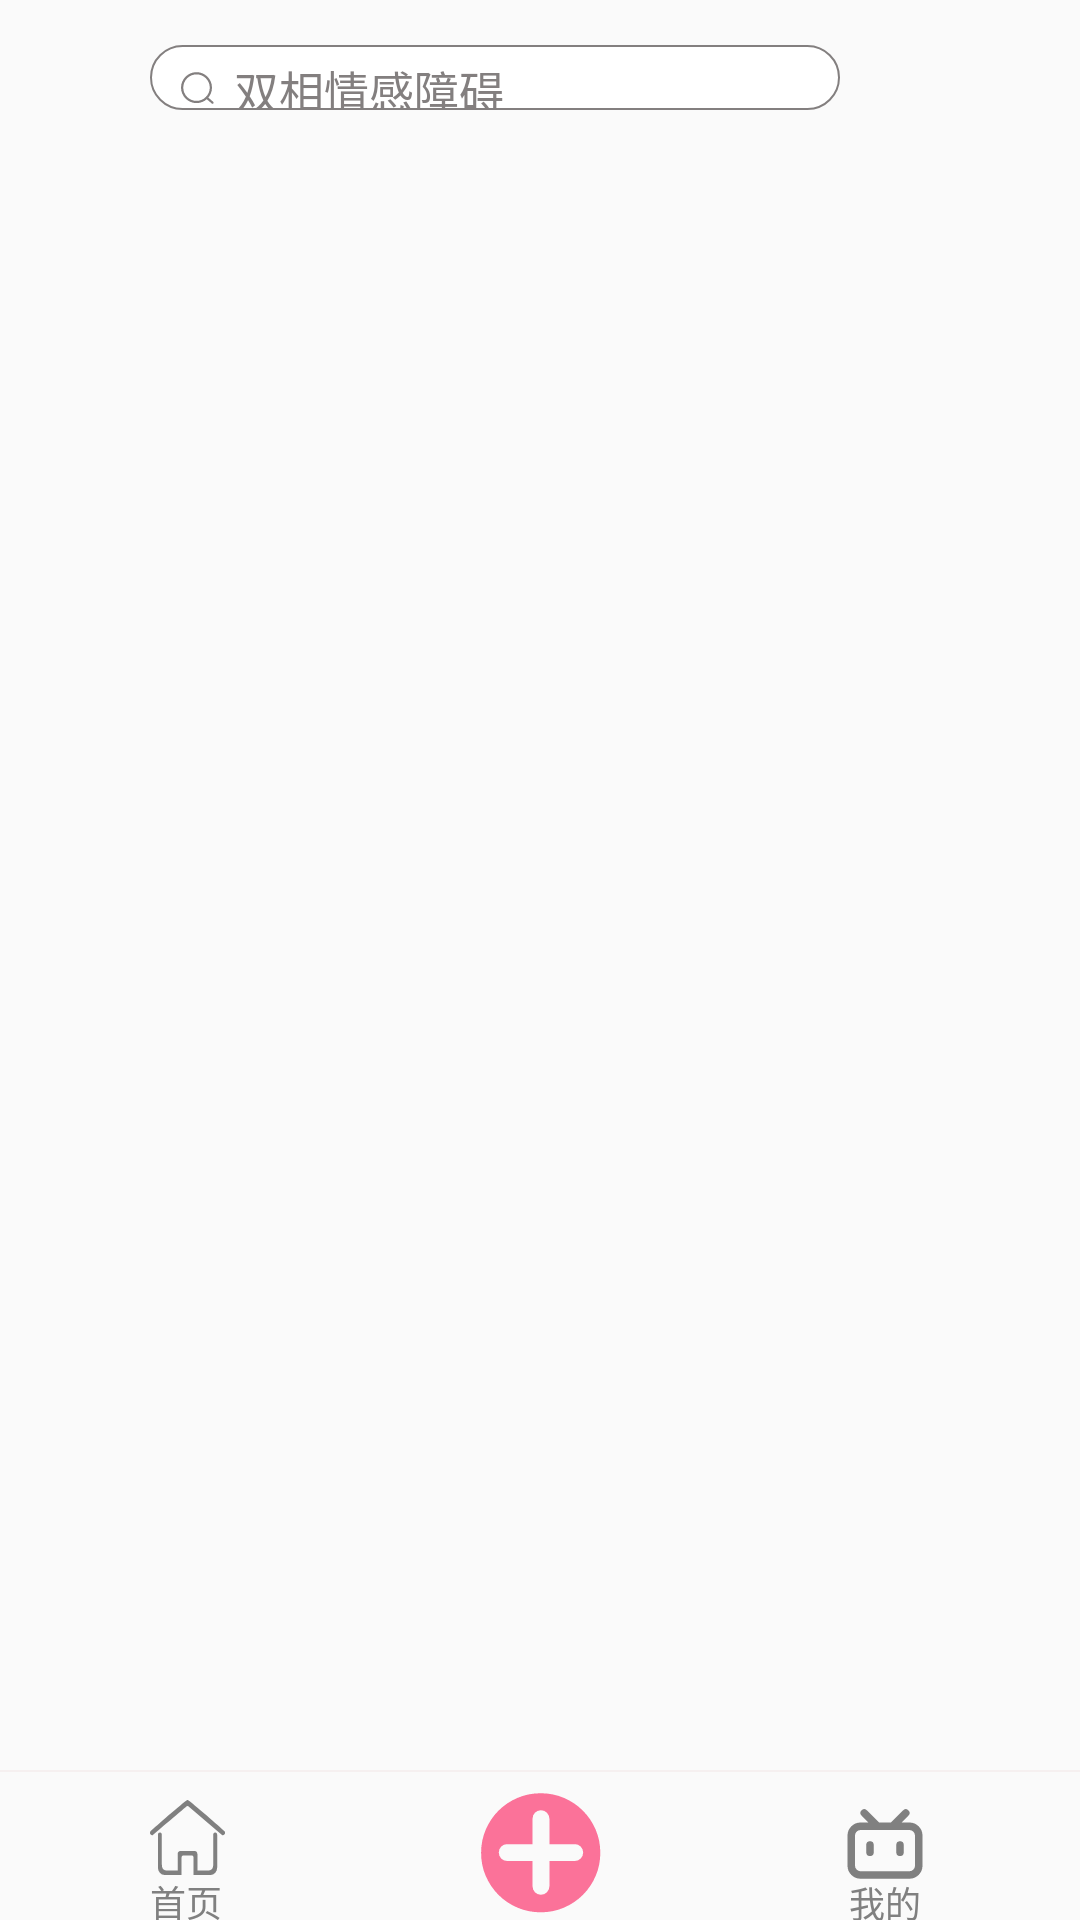

Named icons in this screenshot (1080px x 1920px) and their bounding boxes, (x1=x1, y1=y1, x2=x2, y2=y2):
jia: (x1=481, y1=1793, x2=601, y2=1913)
